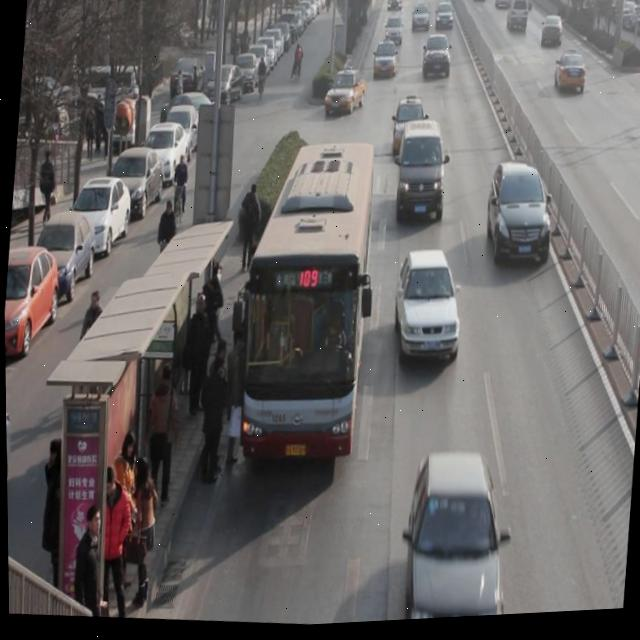car: (397, 447, 512, 624), (387, 249, 466, 370), (480, 162, 556, 275), (323, 63, 368, 121), (389, 98, 427, 161), (551, 51, 587, 101), (420, 36, 453, 86), (373, 41, 397, 83), (539, 17, 564, 53), (433, 3, 455, 34), (411, 3, 430, 36), (383, 19, 403, 47)
truck: (392, 119, 450, 227)
van: (229, 133, 379, 472)
